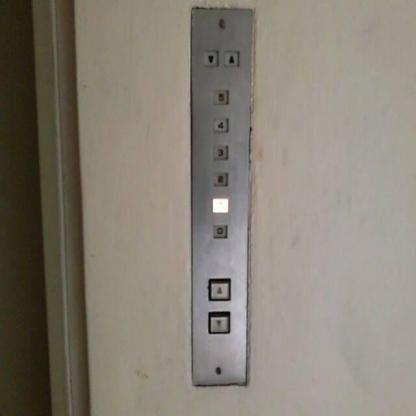2: (211, 170, 228, 187)
3: (212, 143, 229, 161)
4: (212, 116, 228, 134)
5: (213, 88, 228, 106)
G: (211, 223, 228, 238)
blur: (210, 196, 228, 214)
down: (206, 310, 231, 334), (203, 48, 219, 68)
up: (206, 276, 231, 301), (223, 48, 240, 68)
